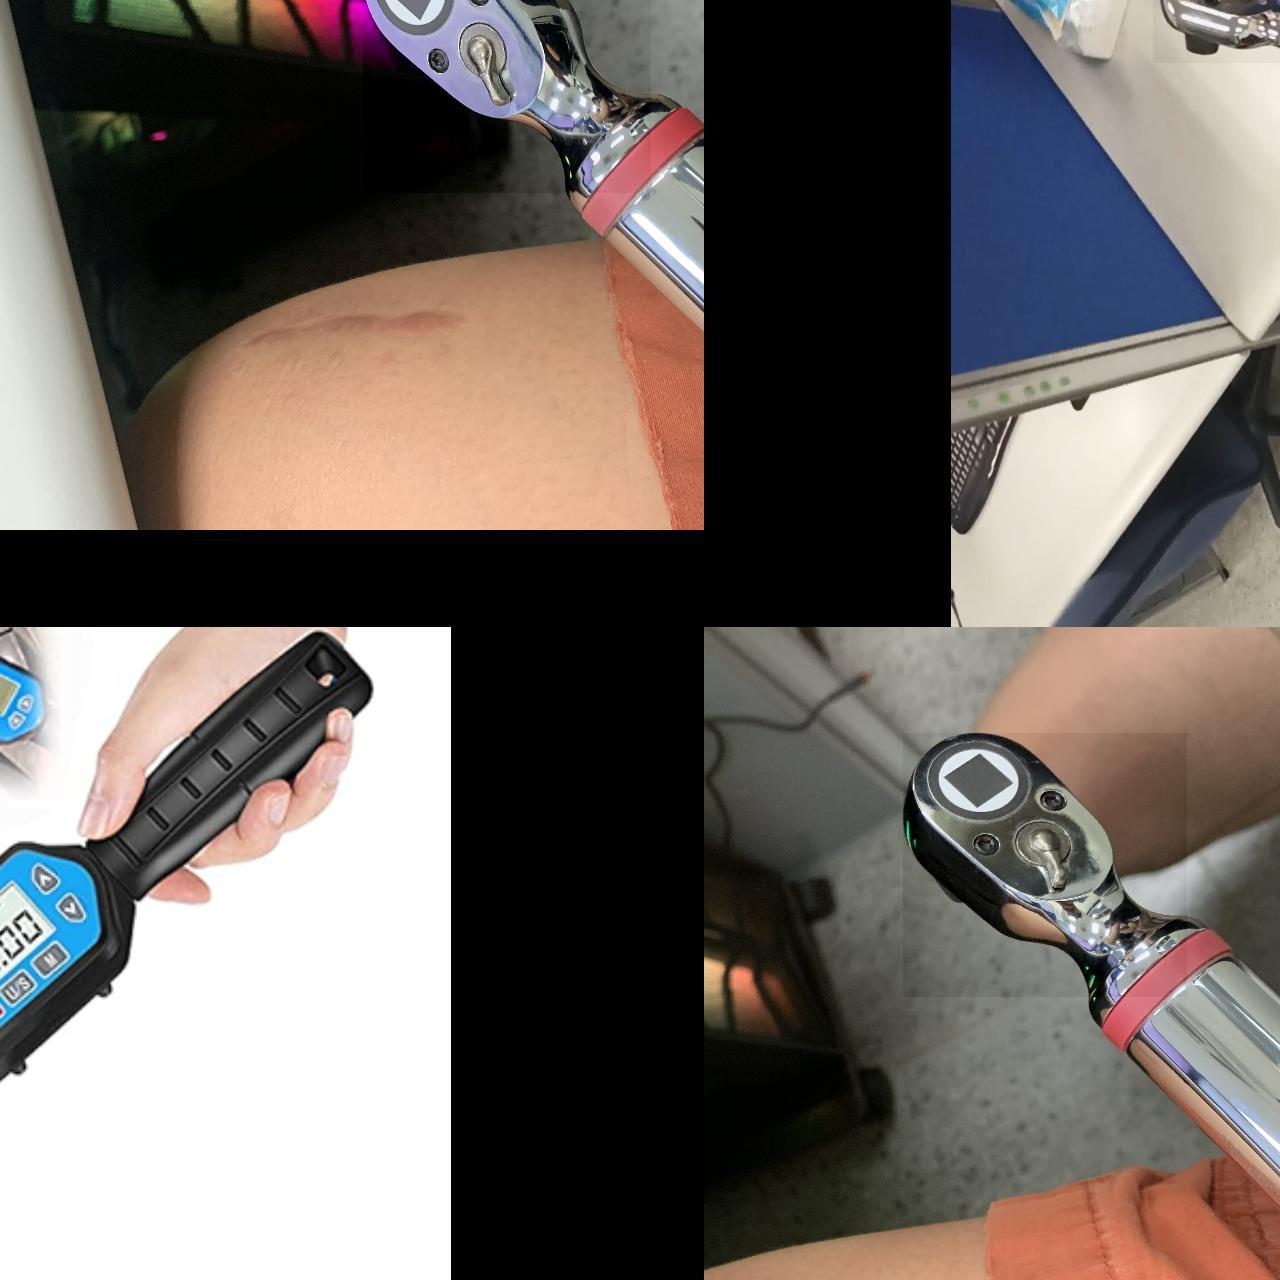Tool: (903, 733, 1186, 998), (362, 0, 651, 193), (1152, 0, 1280, 63)
